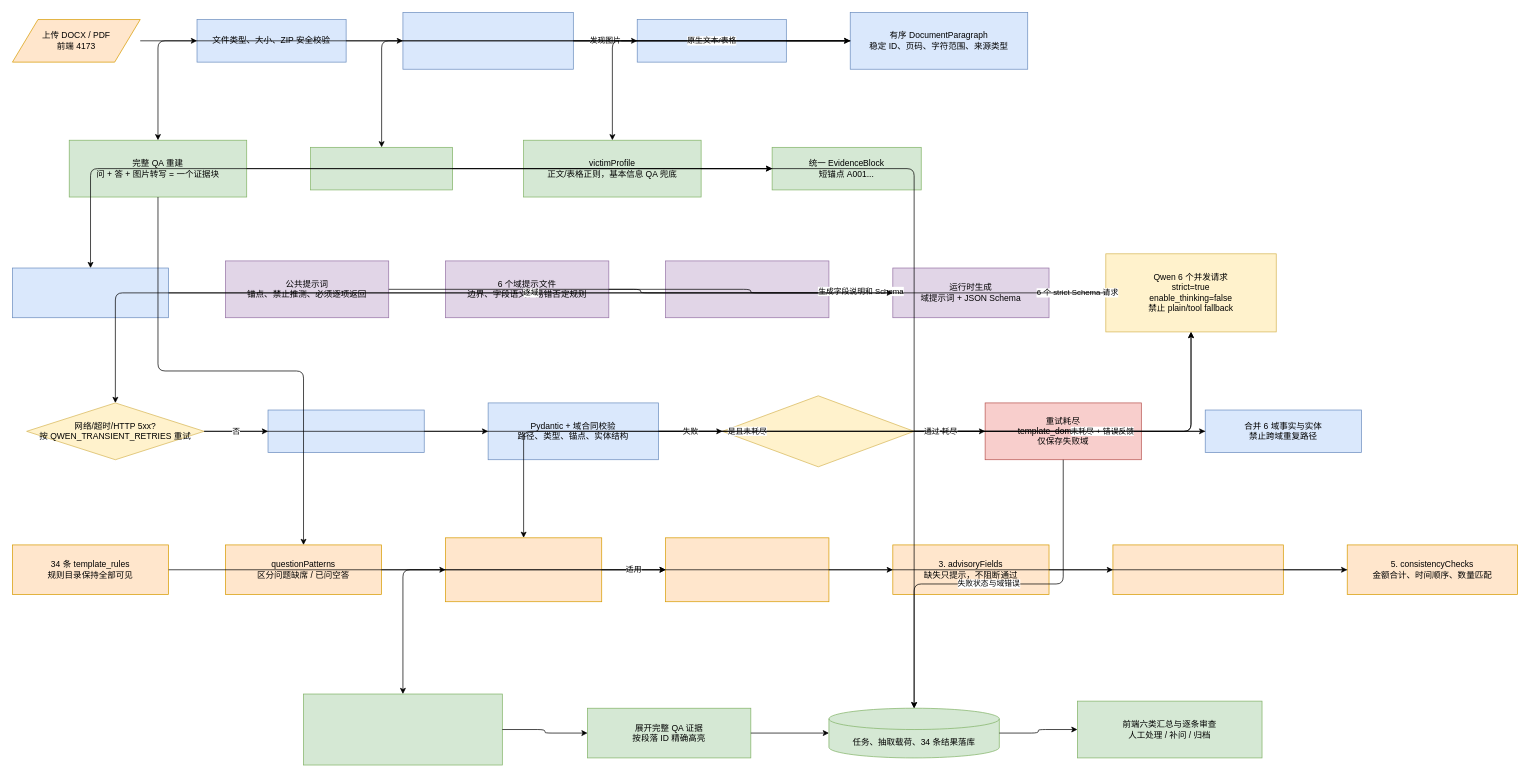
This 1530x777 diagram has some shape labels left out. The box of each missing label's shape, as (x1, y1, x2, y2) in pixels:
1. appliesWhen false=规则不适用 unknown=待人工判断: (445, 537, 602, 602)
2. requiredFields 缺失/不清为阻断项 明确否定也是有效回答: (665, 537, 829, 602)
4. repeatEntity 逐笔转账/取现/线下交付字段: (1112, 544, 1283, 595)
6 个 domain-contract JSON 约 80 个事实 + 实体字段: (665, 260, 829, 318)
6 域编排器 Semaphore 并发上限 6: (12, 267, 169, 318)
DOCX OpenXML / PDF 解析 段落、表格、页眉页脚、图片: (402, 12, 573, 69)
JSON/Schema/域语义失败? 附上次错误，按 QWEN_SCHEMA_RETRIES 重试: (722, 395, 914, 467)
六类状态 已通过 / 未询问 / 回答不清 事实矛盾 / 规则不适用 / 待人工判断: (303, 693, 502, 765)
图片 VLM 转写 按正文原始位置插回: (637, 19, 786, 62)
服务端安全归一化 锚点、已知语义偏差: (267, 409, 424, 453)
非 QA 原文保留 text 证据块: (310, 147, 453, 190)
